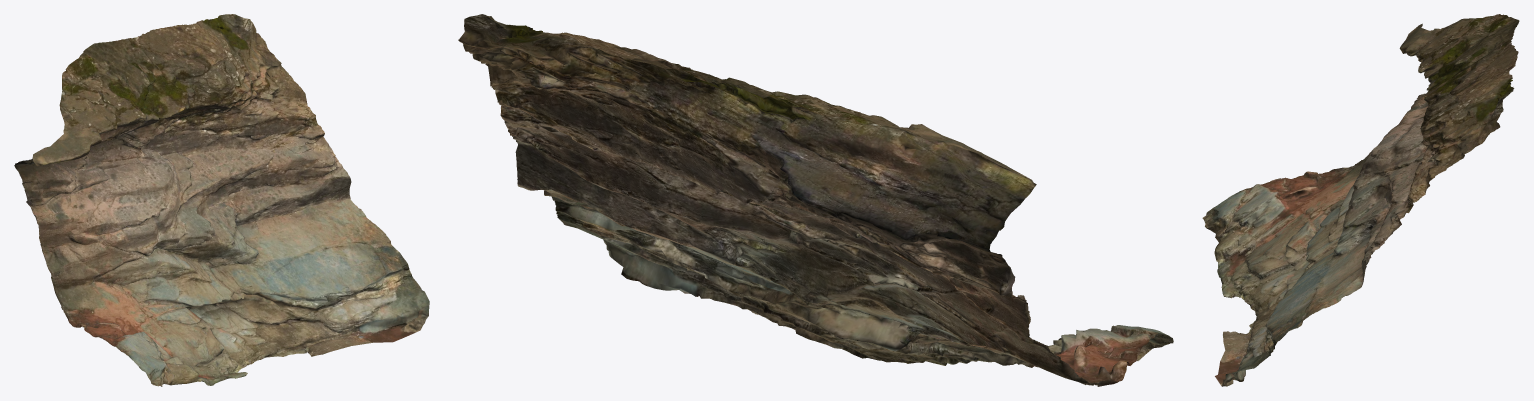
Rendered from rock_face_01.glb.
The picture shows the model from 3 angles, left to right: view 1: azimuth 30°, elevation 25°; view 2: azimuth 150°, elevation 25°; view 3: azimuth 270°, elevation 25°; orthographic projection. The views are drawn at different scales.
Visible parts, largest first — view 1: rock_face_01; view 2: rock_face_01; view 3: rock_face_01.
Part boxes in pixels (x1=…): rock_face_01: x1=14, y1=14, x2=429, y2=386; rock_face_01: x1=458, y1=14, x2=1173, y2=386; rock_face_01: x1=1202, y1=14, x2=1519, y2=386.
Bounding box in the file's own units: 4.95 × 3.56 × 3.83.
1 material, 1 textured.
